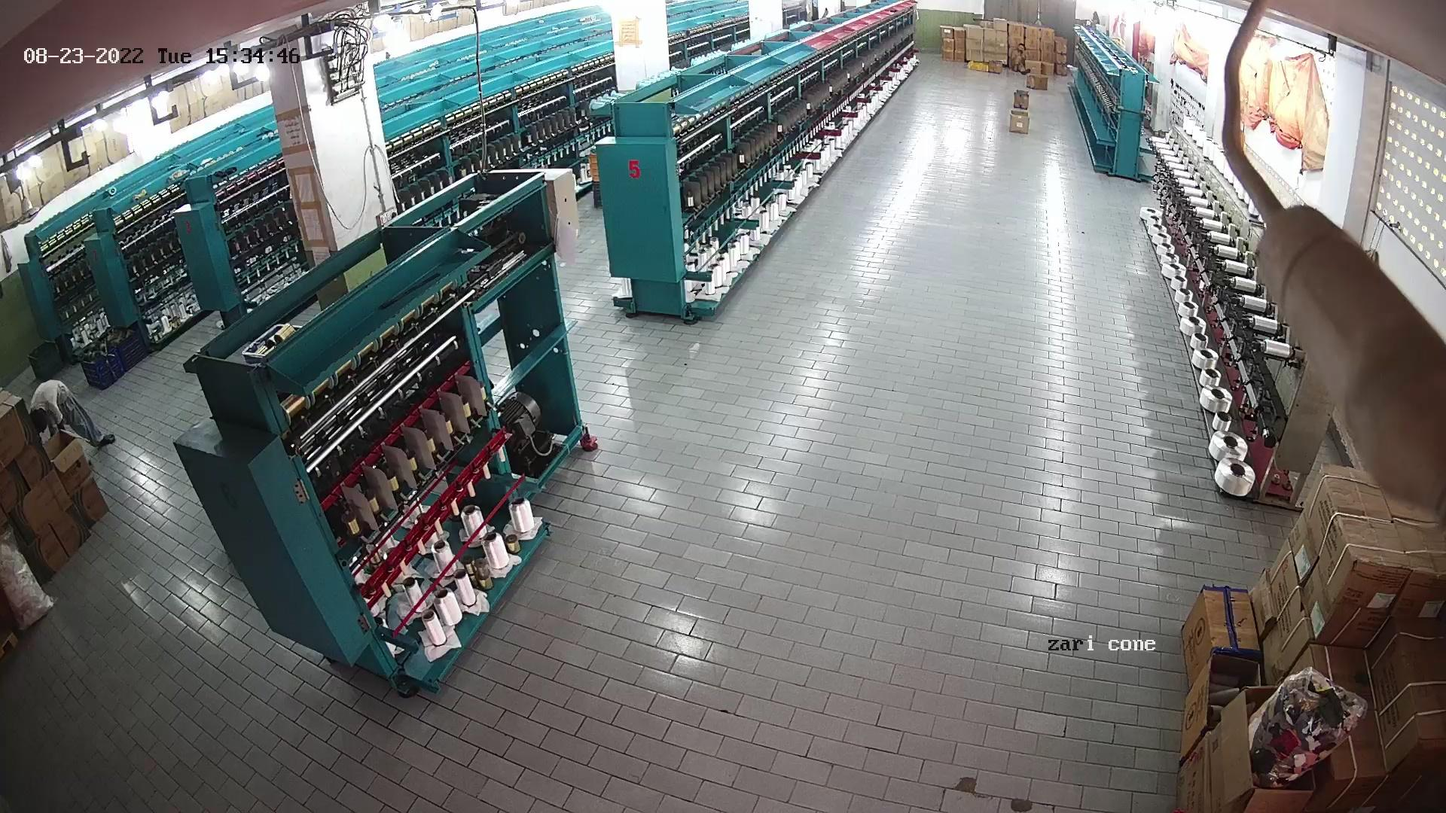person: (23, 374, 123, 457)
